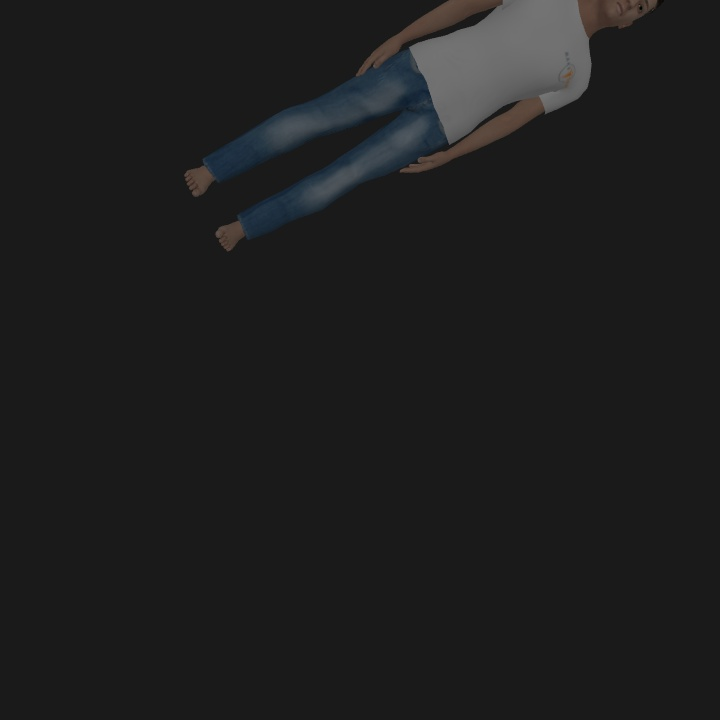victim: (182, 1, 655, 253)
